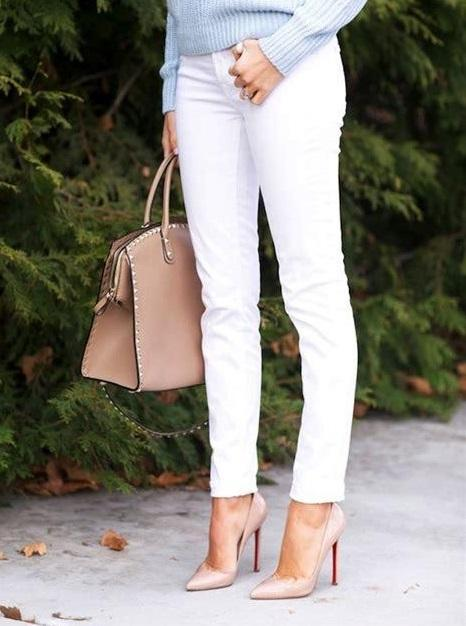pants: (172, 34, 360, 499)
